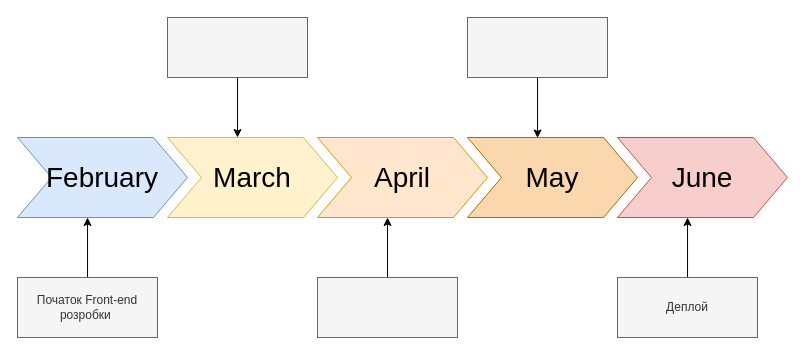
This 805x355 diagram has some shape labels left out. The centre of each missing label's shape, as x and y in pixels:
"Back-end, стоврення баз даних" goes at pixel 387 307.
"Розробка додаткового функціоналу" goes at pixel 237 47.
"Тестування та виправлення помилок" goes at pixel 537 47.
